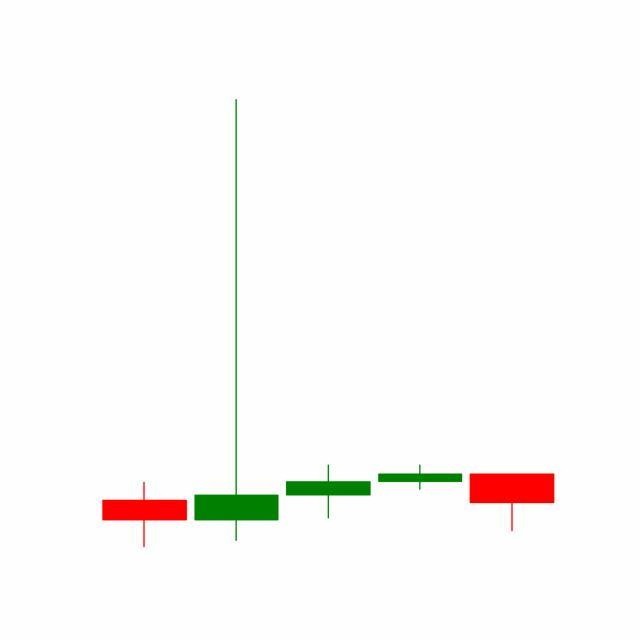Hanging Man: (374, 465, 468, 492)
